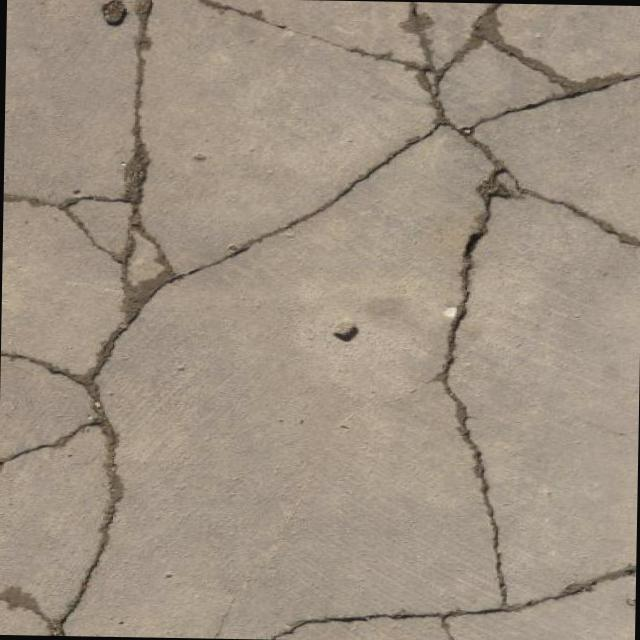crack: (1, 0, 179, 330), (177, 118, 440, 284), (197, 0, 640, 93), (0, 328, 128, 636), (267, 553, 635, 640), (432, 170, 512, 555), (427, 88, 577, 175), (512, 175, 640, 248)
